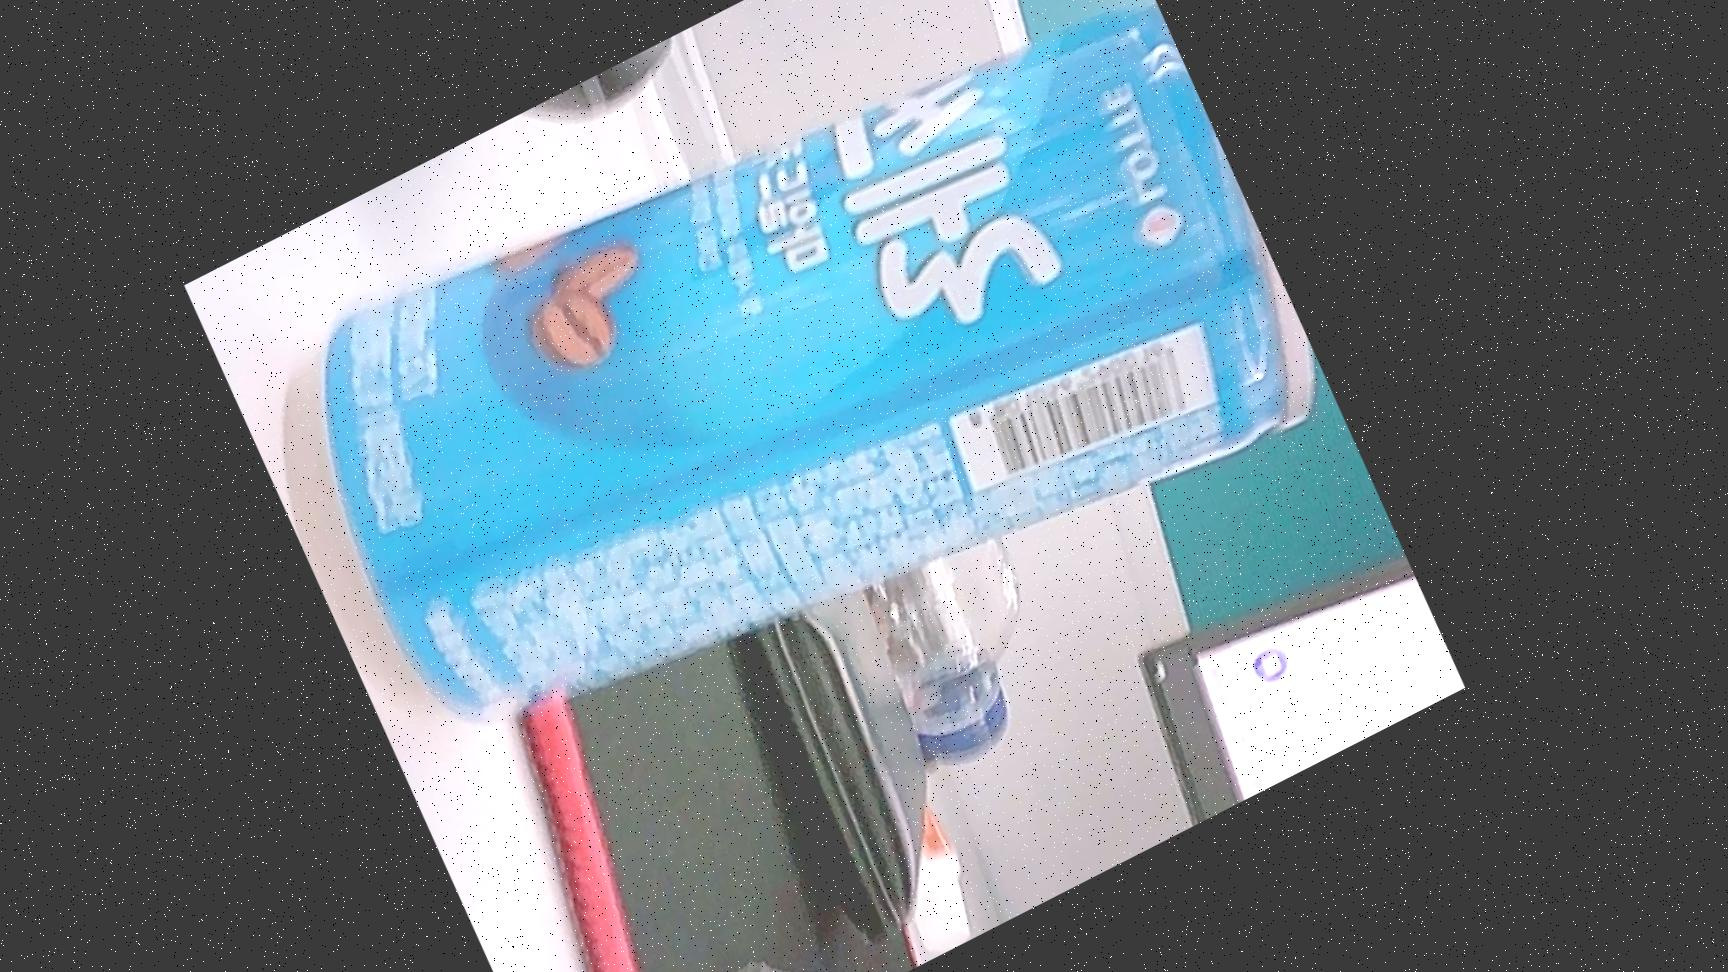letsbe: (237, 0, 1371, 840)
